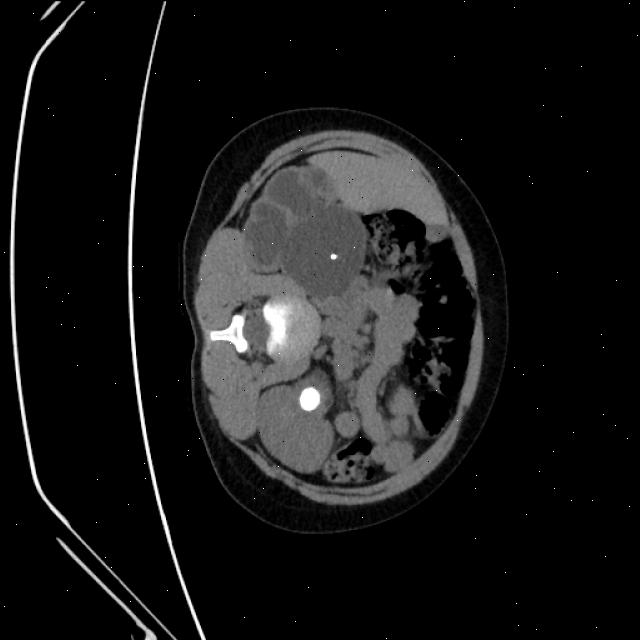kidneystone: (300, 388, 320, 410), (329, 252, 337, 260)
